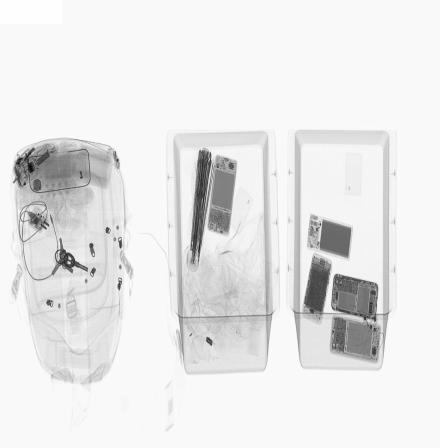Powerbank: (307, 210, 355, 262)
